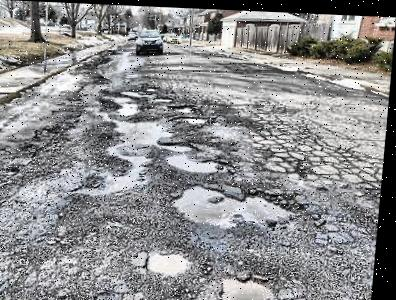pothole: (172, 180, 302, 228), (218, 268, 286, 300), (166, 149, 233, 170), (148, 247, 196, 272), (179, 112, 215, 123), (160, 139, 195, 148), (174, 100, 198, 111), (153, 94, 175, 100)
